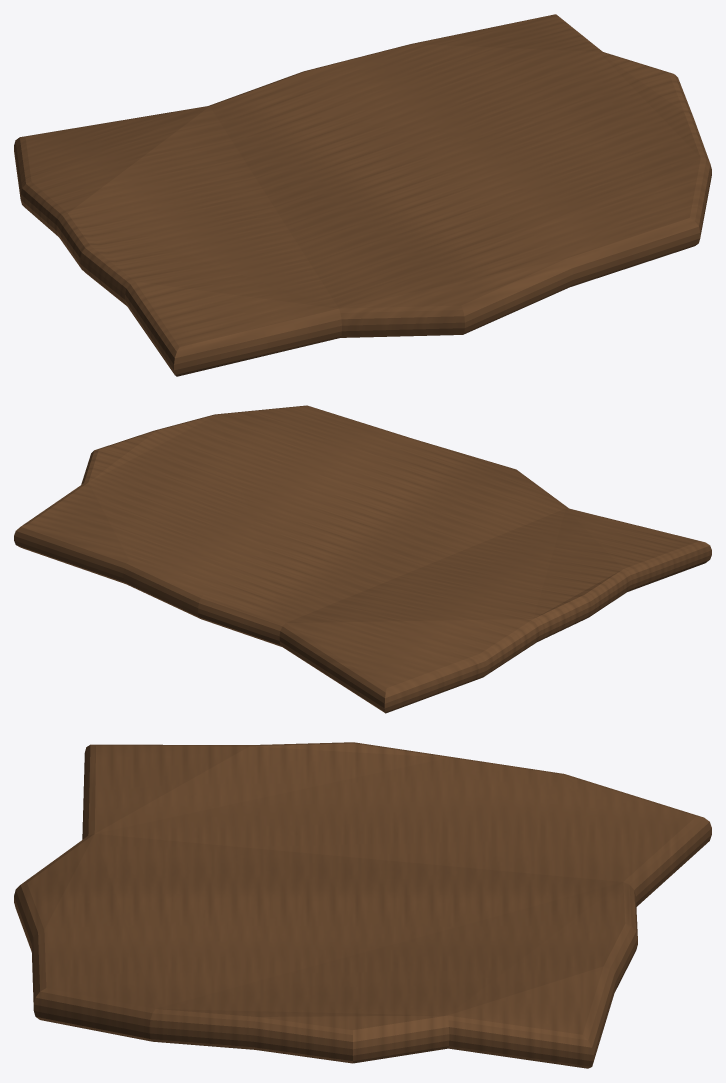
File: boar_hide.glb
The picture shows the model from 3 angles, top to bottom: view 1: azimuth 30°, elevation 25°; view 2: azimuth 150°, elevation 25°; view 3: azimuth 270°, elevation 25°; orthographic projection. The views are drawn at different scales.
Parts seen in each view (by area): view 1: boar_hide; view 2: boar_hide; view 3: boar_hide.
Boxes of the visible parts, <box> form: boar_hide: <box>14,14,711,376</box>; boar_hide: <box>14,405,711,713</box>; boar_hide: <box>14,742,711,1068</box>.
Bounding box in the file's own units: 0.467 × 0.0582 × 0.3971.
Materials: 1 (1 with a texture image).
